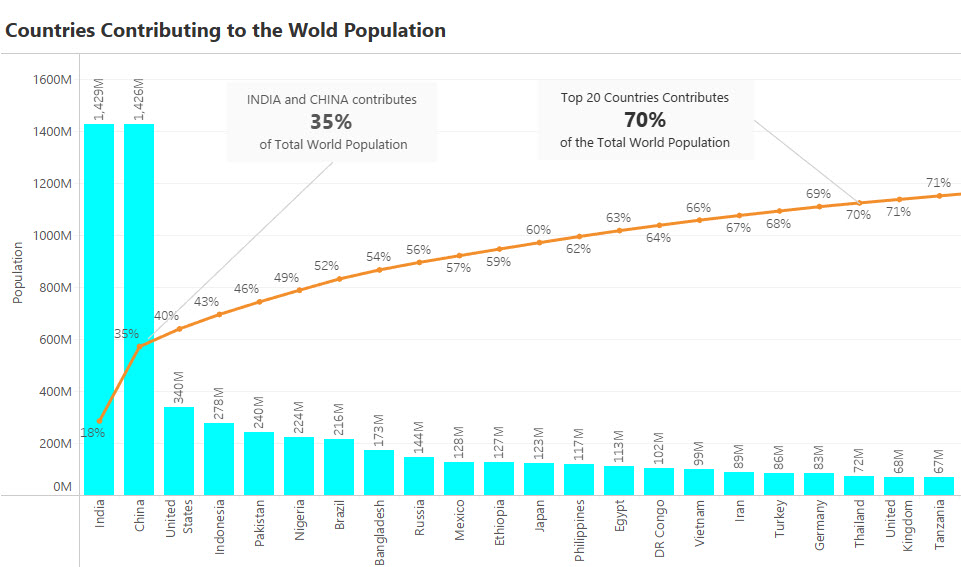

This screenshot's page, from the dashboard's own definition file:
{"tool":"tableau","page":{"name":"Population Wise","canvas":[1000,600],"ordinal":1},"visuals":[{"type":"text","box":[12,12,976,59.2]},{"type":"dashboard-object","box":[925,15,50,50]},{"type":"text","box":[845,25,80,30]},{"type":"worksheet","title":"Population (2)","mark":"Bar","rows":["Population_(2023)","Population_(2023)"],"cols":["Country (or dependency)"],"box":[12,71.2,976,361.8]},{"type":"text","box":[12,433,366,155]},{"type":"text","box":[378,433,372,155]},{"type":"blank","box":[750,433,45,155]},{"type":"text","box":[795,433,193,155]},{"type":"blank","box":[778,440,10,121]}]}

Visuals, with their boxes in screenshot pixels (x1, y1, x2, y2), scaled from the page's 1000x600 canvas onto the 961x567 screenshot:
text: 12:11:949:67
dashboard-object: 889:14:937:61
text: 812:24:889:52
"Population (2)" worksheet (Bar marks): 12:67:949:409
text: 12:409:363:556
text: 363:409:721:556
blank: 721:409:764:556
text: 764:409:949:556
blank: 748:416:757:530
